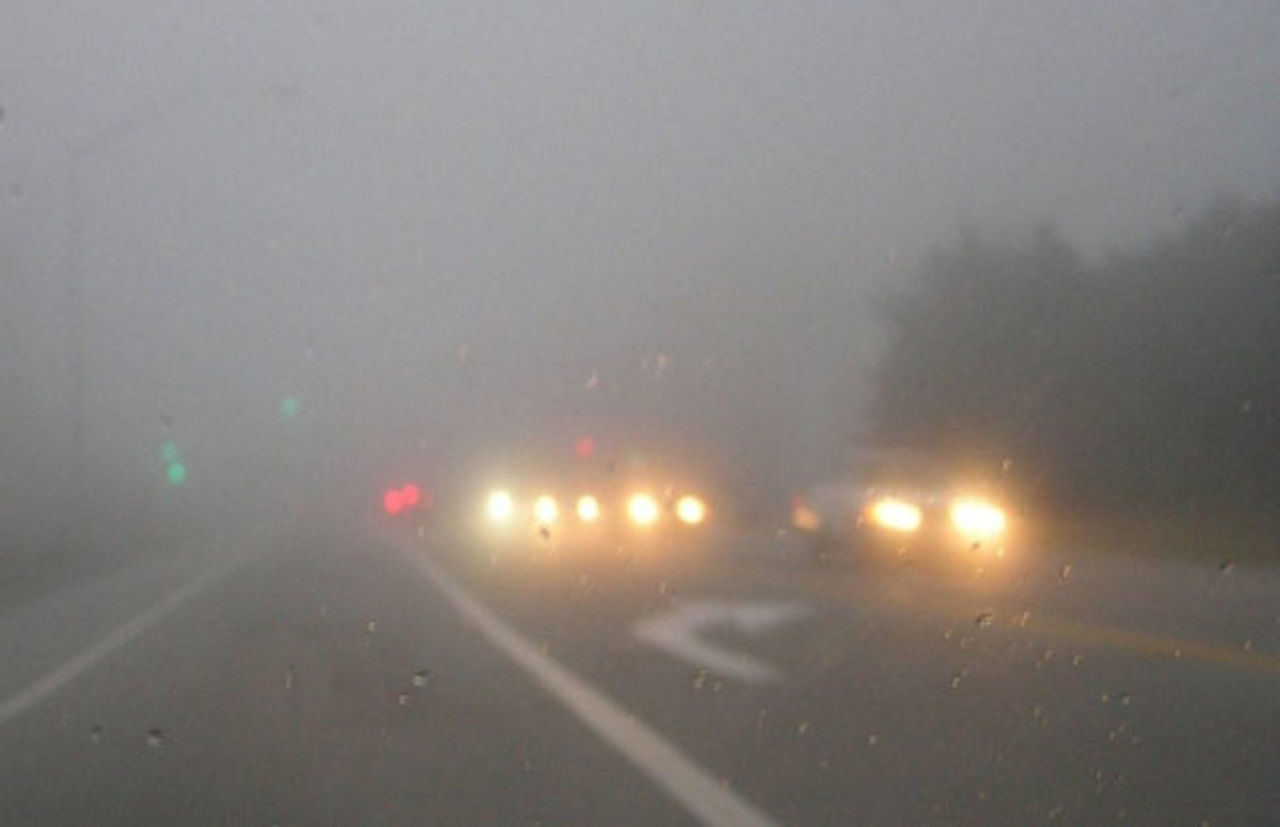car: (810, 438, 1018, 576), (618, 452, 708, 541), (478, 464, 562, 549), (554, 465, 610, 536)
